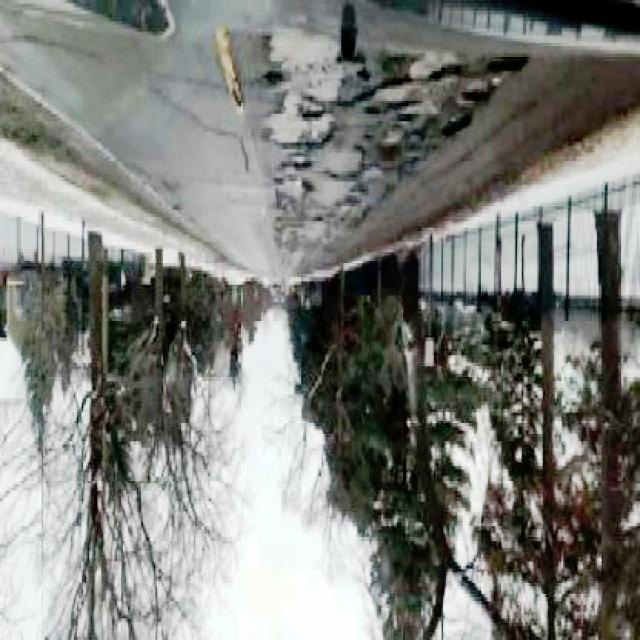pothole: (357, 52, 509, 163), (249, 15, 351, 151)
